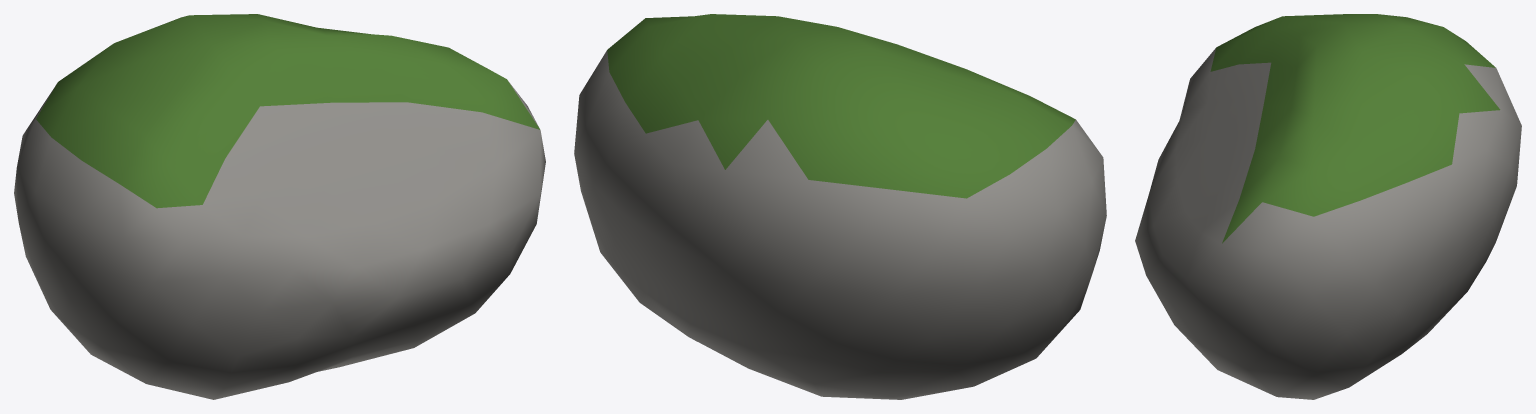
The model's file is boulder_b.glb.
The picture shows the model from 3 angles, left to right: view 1: azimuth 30°, elevation 25°; view 2: azimuth 150°, elevation 25°; view 3: azimuth 270°, elevation 25°; orthographic projection. The views are drawn at different scales.
Visible parts, largest first — view 1: boulder_b; view 2: boulder_b; view 3: boulder_b.
Boxes of the visible parts, left/top/right/bottom form: boulder_b: left=14, top=14, right=545, bottom=399; boulder_b: left=574, top=14, right=1106, bottom=399; boulder_b: left=1135, top=14, right=1521, bottom=399.
Bounding box in the file's own units: 2.02 × 1.39 × 1.52.
